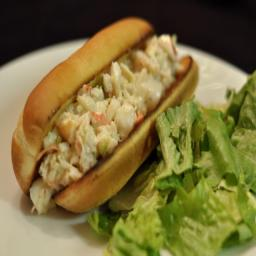hotdog: (8, 18, 196, 213)
